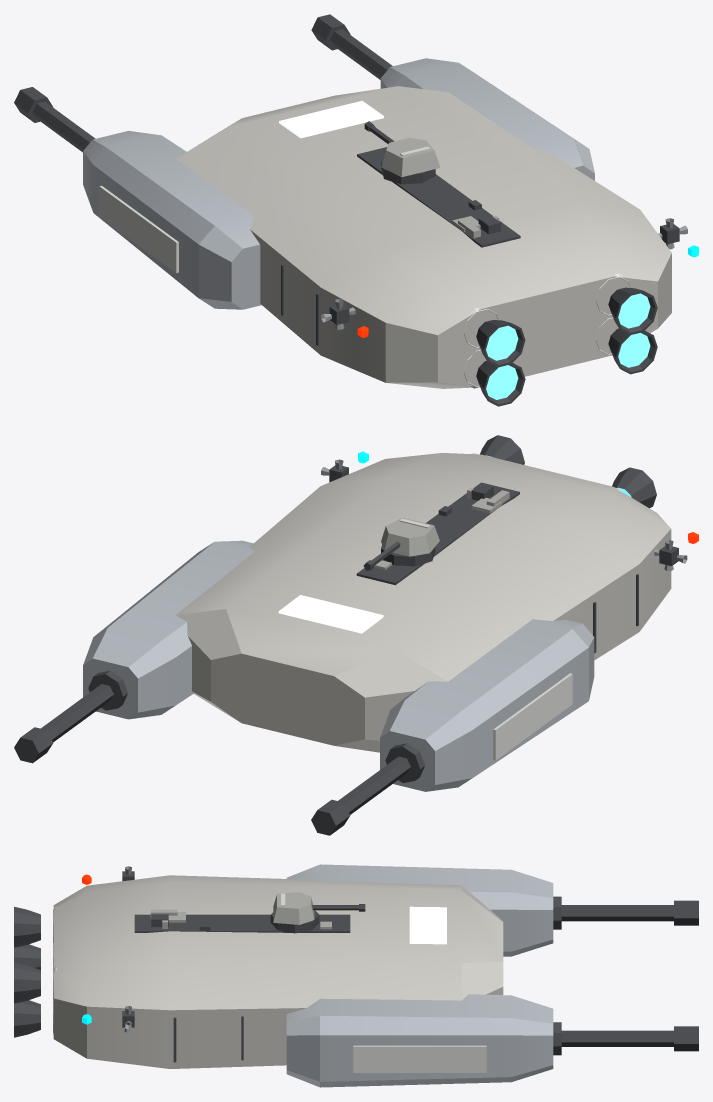
File: gunboat.glb
3 views of the same model, one above another, from view 1: azimuth 30°, elevation 25°; view 2: azimuth 150°, elevation 25°; view 3: azimuth 270°, elevation 25° (orthographic). The views are drawn at different scales.
Parts seen in each view (by area): view 1: Hull, Turret_4; view 2: Hull, Turret_4; view 3: Hull, Turret_4.
Part boxes in pixels (x1,y1,x2,y2): Hull: (14, 14, 698, 406); Turret_4: (364, 121, 440, 184); Hull: (14, 435, 698, 835); Turret_4: (363, 517, 439, 570); Hull: (14, 864, 698, 1087); Turret_4: (270, 892, 365, 933).
Size of the model in its own units: 1.16 by 0.4106 by 2.
